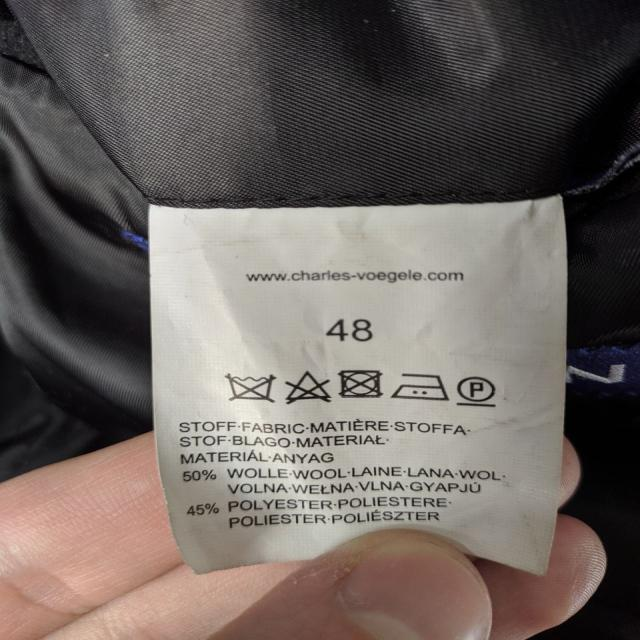DN_bleach: (283, 367, 331, 406)
DN_tumble_dry: (335, 365, 386, 403)
DN_wash: (223, 369, 278, 406)
dry_clean_any_solvent_except_trichloroethylene: (452, 372, 500, 410)
iron_medium: (391, 370, 449, 404)
